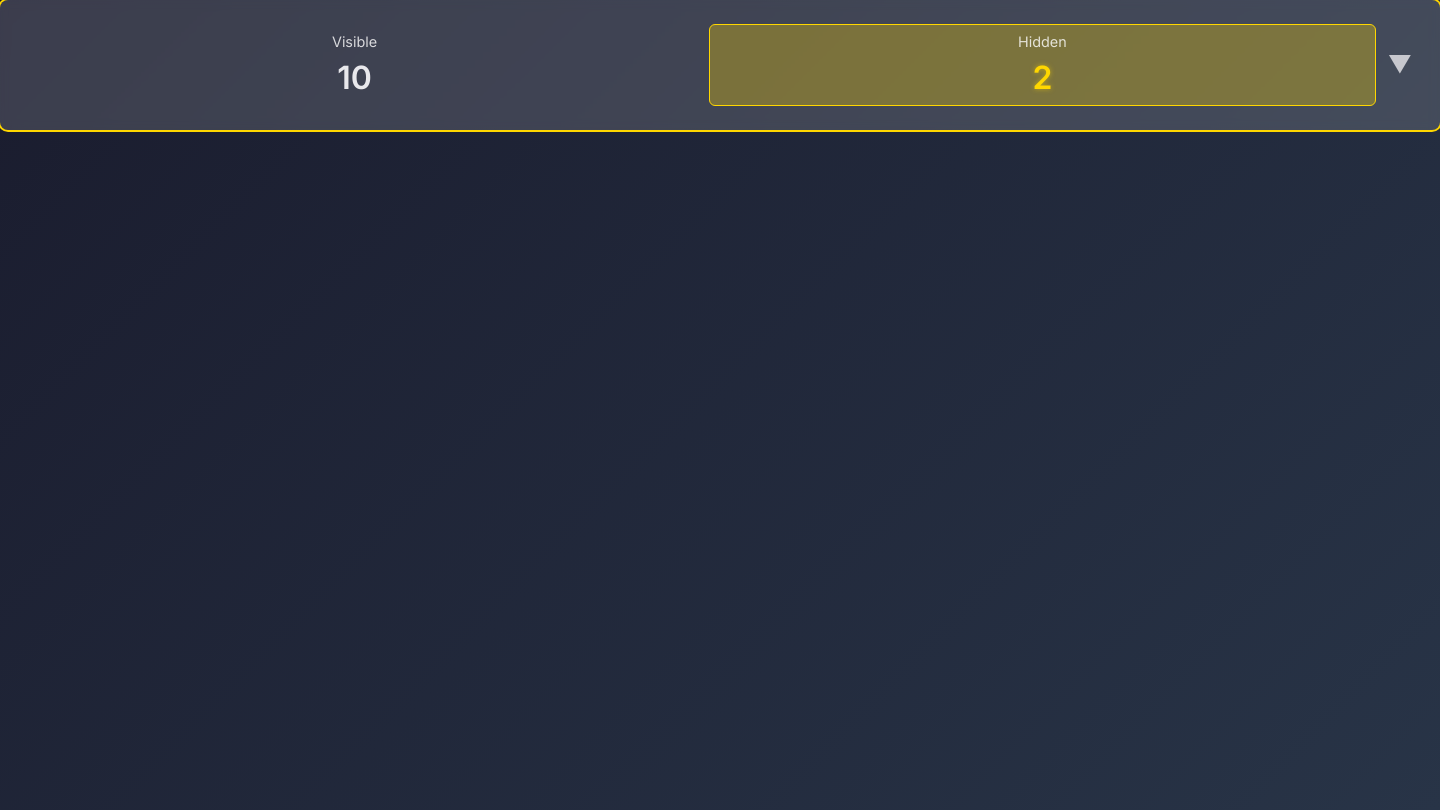
Test: StatsDisplay › shows the detailed counts on request
Click the button named "show details". click: (720, 65)
box: [16, 16, 1424, 114]
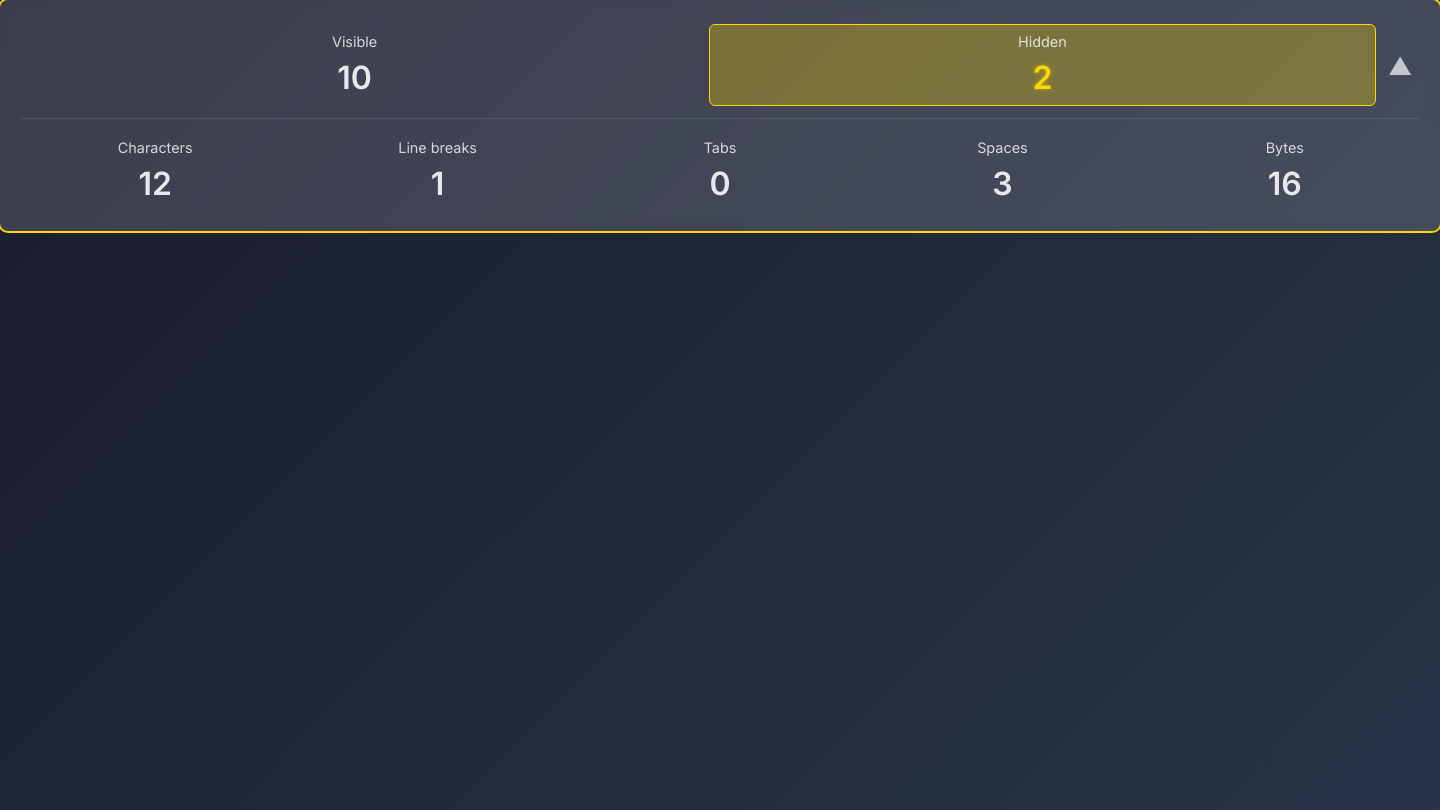
Check: the button named "show details" is expanded, box [16, 16, 1424, 114]
Check: the element with id "stats-details" is shown, box [20, 118, 1420, 211]
Check: the text "16" is shown, box [1268, 164, 1302, 203]
